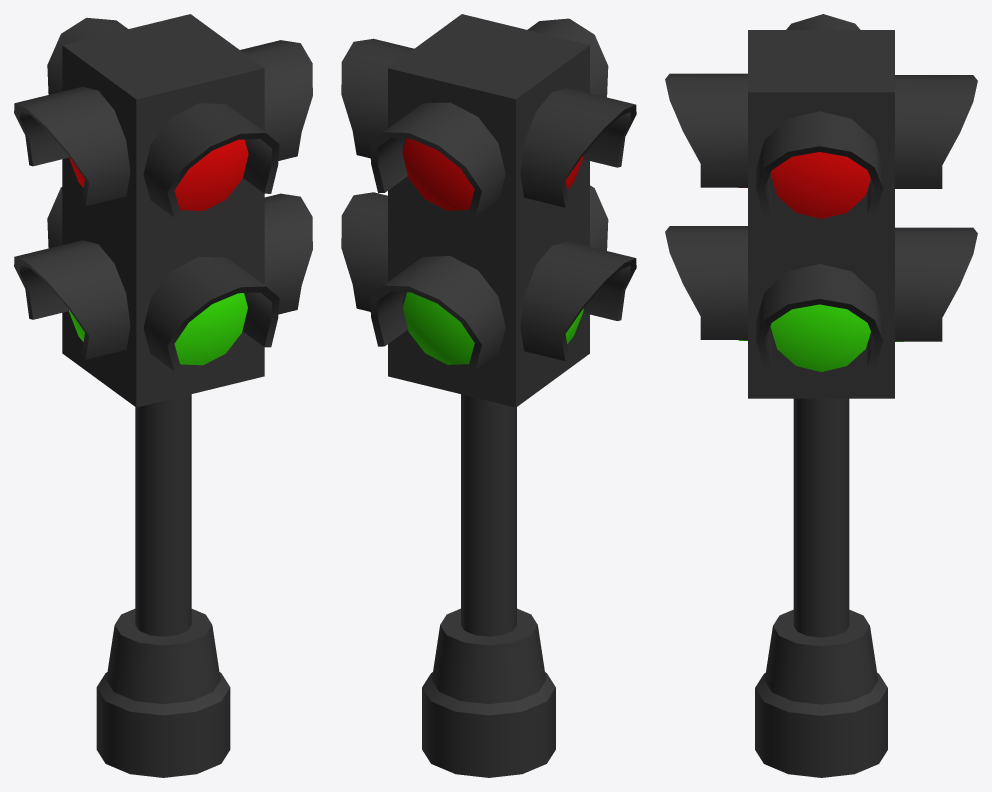
The model's file is traffic.fbx.
3 renders of one model, left to right at view 1: azimuth 30°, elevation 25°; view 2: azimuth 150°, elevation 25°; view 3: azimuth 270°, elevation 25°, orthographic.
Visible parts, largest first — view 1: pPlane1; view 2: pPlane1; view 3: pPlane1.
Part boxes in pixels (bbox=[...]): pPlane1: bbox=[14, 14, 312, 777]; pPlane1: bbox=[341, 14, 636, 777]; pPlane1: bbox=[665, 14, 977, 777].
Size of the model in its own units: 39.01 by 94.74 by 39.01.
